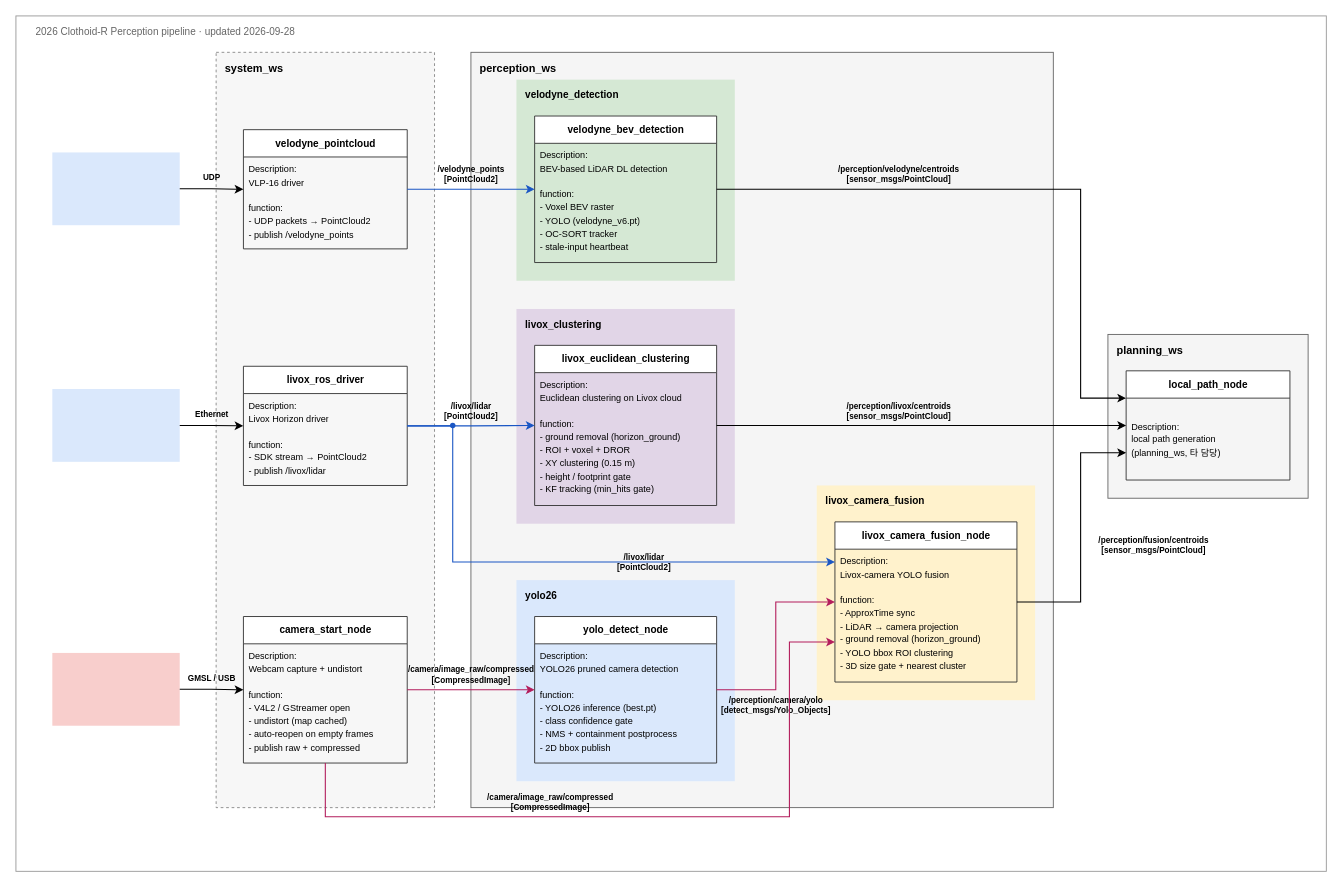
Some shapes in this 1342 by 887 pixel diagram are drawn without their labels. Here are the shapes that lost their labels. From the top down, the centre of each, then its label:
At [115,188]: "Velodyne VLP-16 LiDAR".
At [115,425]: "Livox Horizon LiDAR".
At [115,688]: "SF3324-100 Camera".
